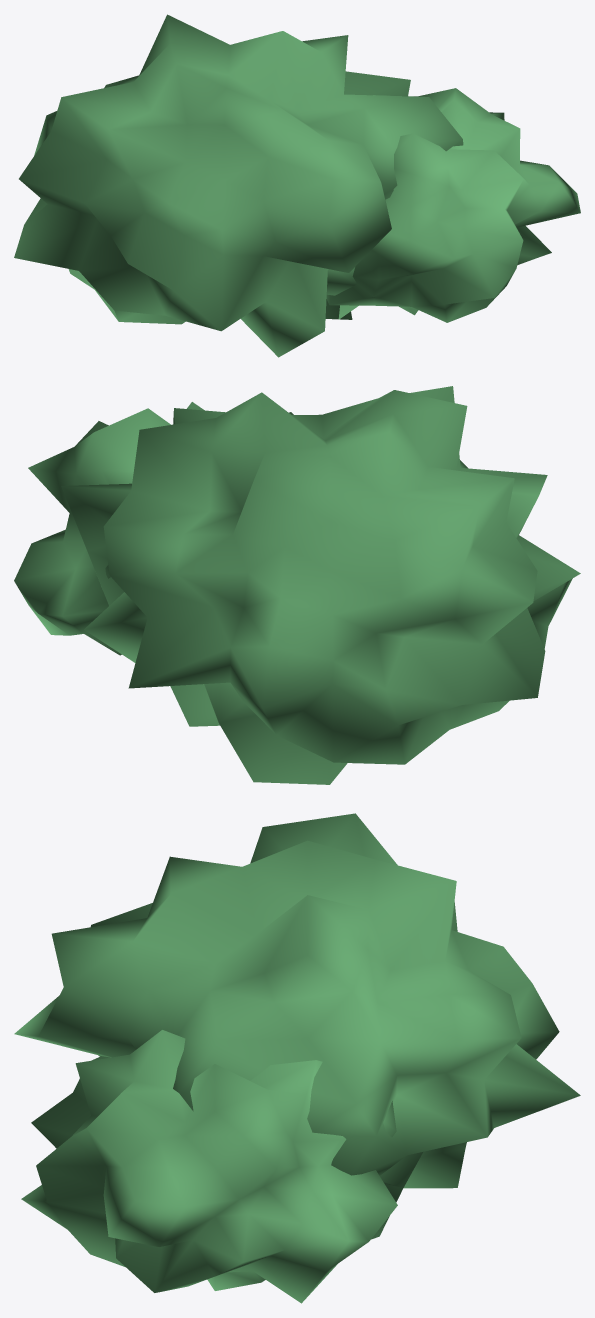
The model's file is tropical-bush.gltf.
3 renders of one model, top to bottom at view 1: azimuth 30°, elevation 25°; view 2: azimuth 150°, elevation 25°; view 3: azimuth 270°, elevation 25°, orthographic. The views are drawn at different scales.
Visible parts, largest first — view 1: tropical-bush; view 2: tropical-bush; view 3: tropical-bush.
Boxes of the visible parts, <box> form: tropical-bush: <box>14,14,580,357</box>; tropical-bush: <box>14,386,580,784</box>; tropical-bush: <box>14,813,580,1303</box>.
Bounding box in the file's own units: 1.47 × 0.8232 × 1.22.
